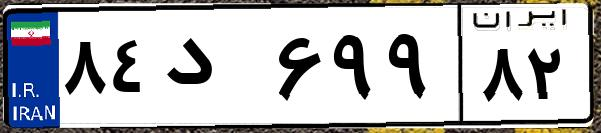2: (525, 38, 570, 115)
4: (110, 28, 158, 98)
6: (270, 28, 330, 110)
8: (57, 26, 110, 100), (475, 38, 525, 113)
9: (385, 28, 445, 110), (330, 28, 385, 110)
د: (158, 20, 270, 120)
